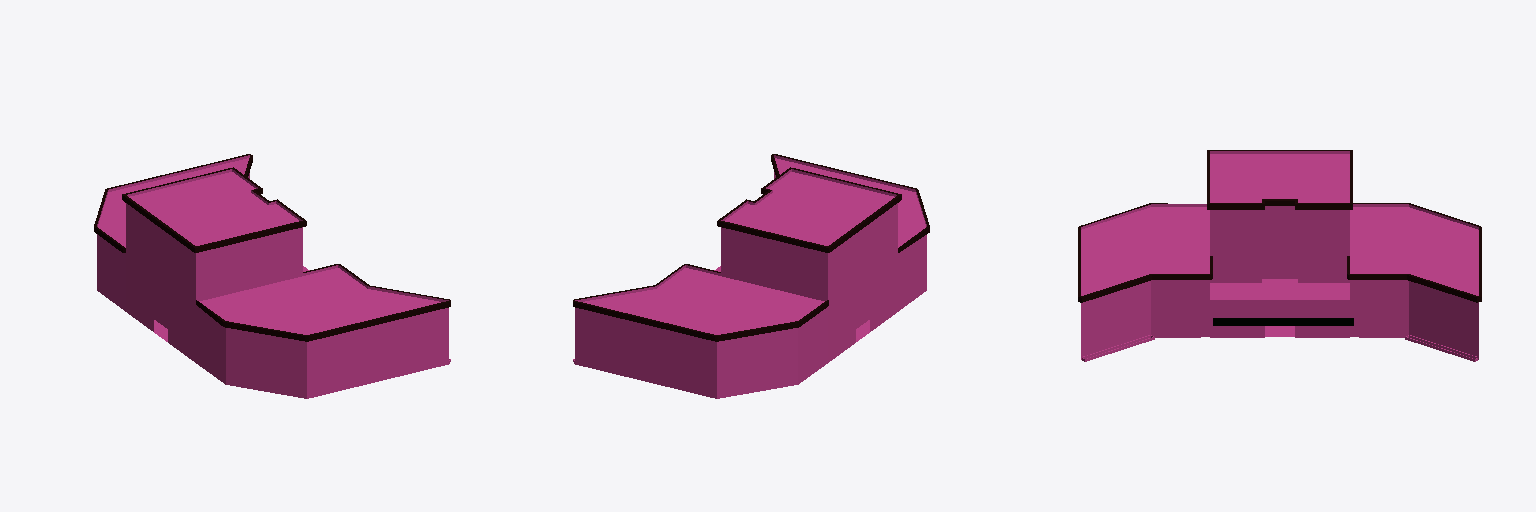
Rendered from resort.obj.
The picture shows the model from 3 angles: view 1: azimuth 30°, elevation 25°; view 2: azimuth 150°, elevation 25°; view 3: azimuth 270°, elevation 25°; orthographic projection.
Visible parts, largest first — view 1: Resort; view 2: Resort; view 3: Resort.
Part boxes in pixels (x1,y1,x2,y2): Resort: (94,154,450,398); Resort: (573,154,929,398); Resort: (1078,150,1481,361).
Size of the model in its own units: 38.42 by 22 by 68.85.